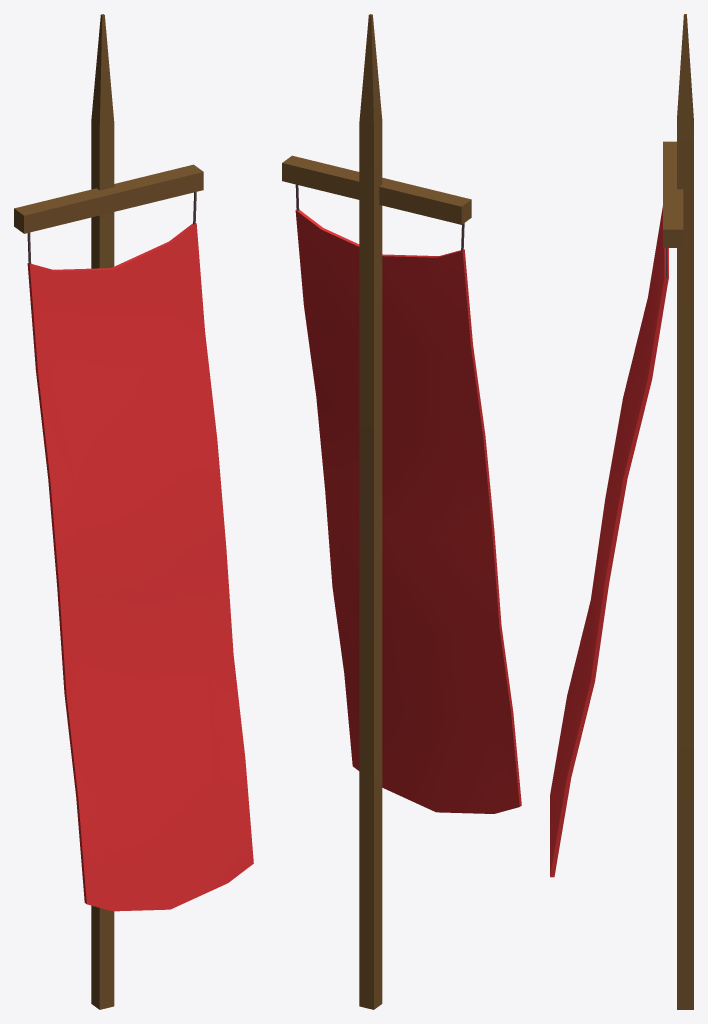
The model's file is Red_Flag.fbx.
The picture shows the model from 3 angles, left to right: view 1: azimuth 30°, elevation 25°; view 2: azimuth 150°, elevation 25°; view 3: azimuth 270°, elevation 25°; orthographic projection.
Parts seen in each view (by area): view 1: Red_Flag; view 2: Red_Flag; view 3: Red_Flag.
Part boxes in pixels (box(x1,y1,x2,y2)): Red_Flag: box(14, 14, 253, 1009); Red_Flag: box(282, 14, 521, 1009); Red_Flag: box(550, 14, 693, 1009).
Bounding box in the file's own units: 380 × 2003 × 263.
